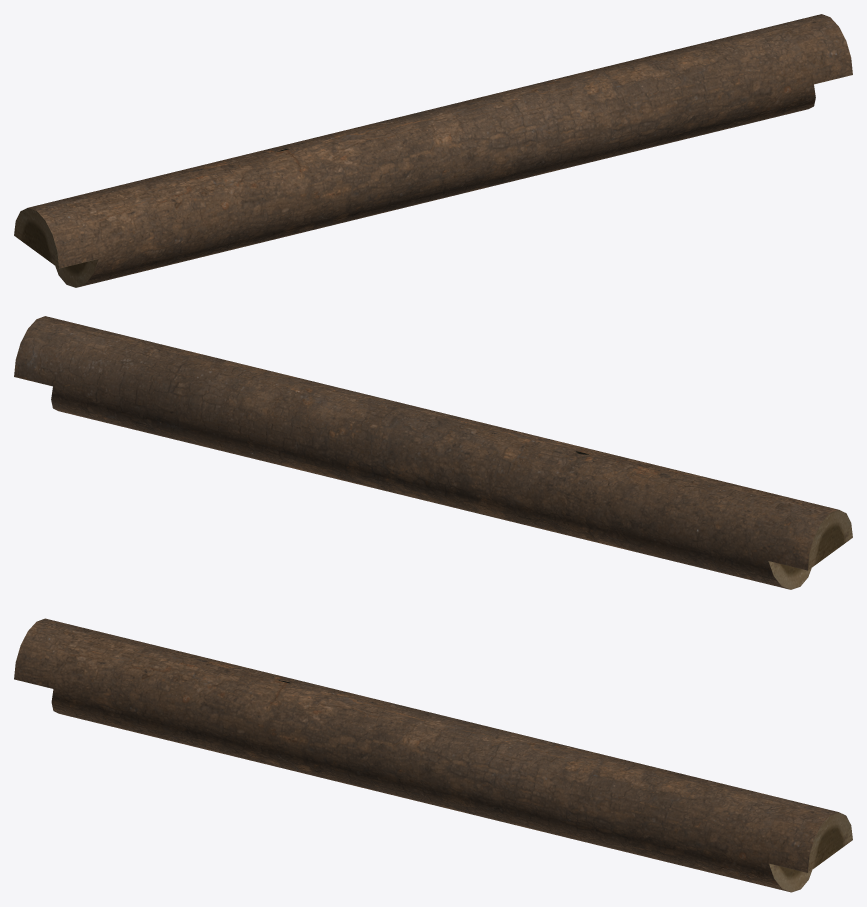
The model's file is piece.obj.
3 renders of one model, top to bottom at view 1: azimuth 30°, elevation 25°; view 2: azimuth 150°, elevation 25°; view 3: azimuth 330°, elevation 25°, orthographic.
Parts seen in each view (by area): view 1: ThreeSupportBB; view 2: ThreeSupportBB; view 3: ThreeSupportBB.
Part boxes in pixels (<box>): ThreeSupportBB: <box>14,14,852,287</box>; ThreeSupportBB: <box>14,316,852,589</box>; ThreeSupportBB: <box>14,618,852,892</box>.
Bounding box in the file's own units: 2.03 × 0.1985 × 0.2.
Materials: 1 (1 with a texture image).
